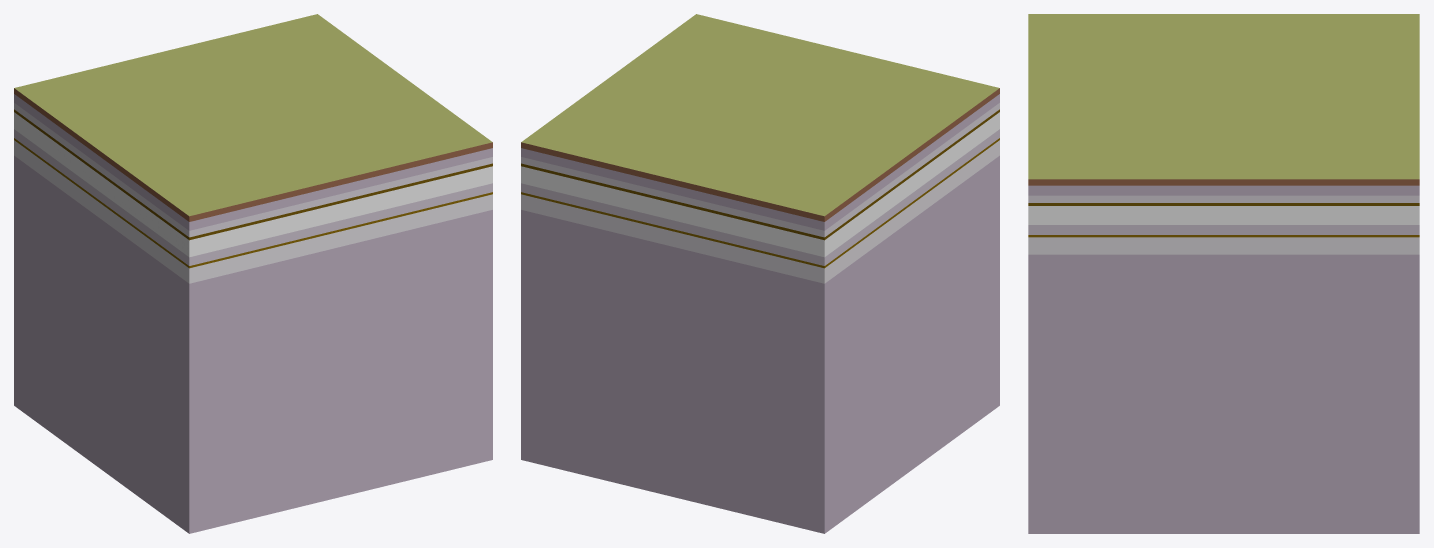
File: marble.obj
The picture shows the model from 3 angles, left to right: view 1: azimuth 30°, elevation 25°; view 2: azimuth 150°, elevation 25°; view 3: azimuth 270°, elevation 25°; orthographic projection. The views are drawn at different scales.
Visible parts, largest first — view 1: Cube; view 2: Cube; view 3: Cube.
Part boxes in pixels (left/top/right/bottom): Cube: left=14, top=14, right=492, bottom=533; Cube: left=521, top=14, right=999, bottom=533; Cube: left=1028, top=14, right=1419, bottom=533.
Size of the model in its own units: 2 by 2 by 2.
